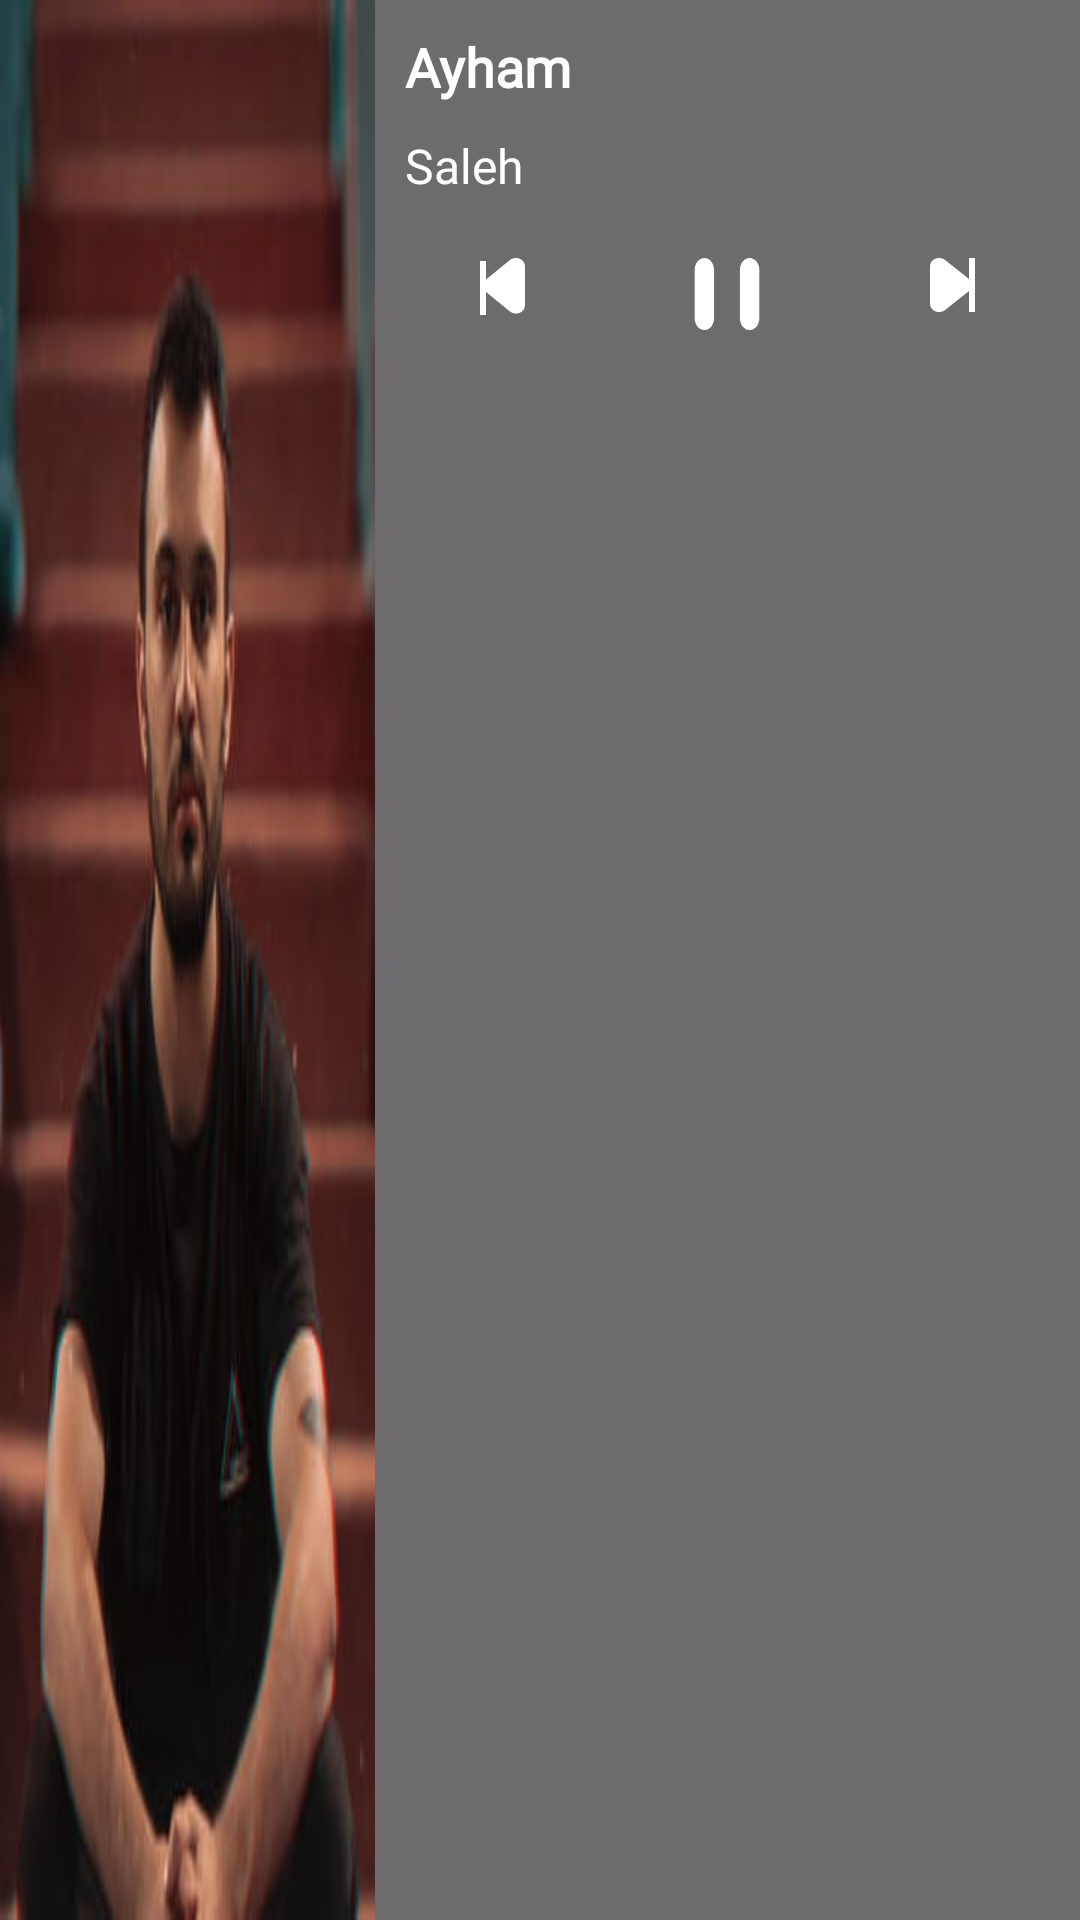

Where icons sit on this 1080 × 1920 app screen, as BBox(x1, y1, x2, y2):
next: BBox(930, 258, 975, 312)
pause music: BBox(694, 258, 760, 330)
previous: BBox(480, 258, 525, 315)
